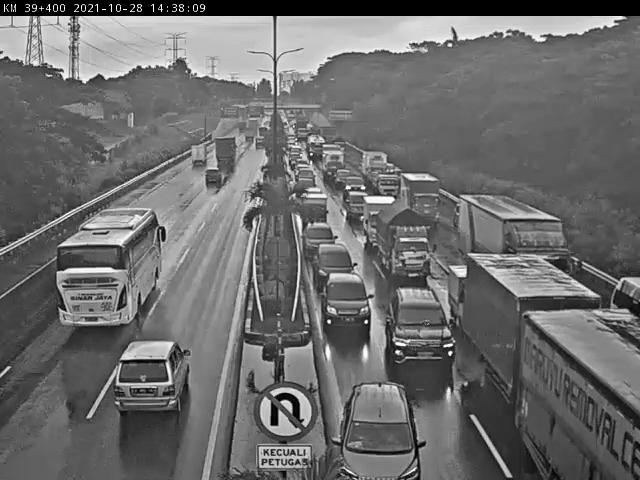big bus: (33, 206, 179, 342)
big truck: (529, 314, 640, 480), (474, 255, 593, 401), (378, 194, 436, 280), (402, 171, 445, 224), (364, 197, 402, 248), (212, 135, 247, 170), (186, 142, 211, 166)
car: (335, 378, 427, 480), (114, 336, 187, 417), (384, 285, 451, 373), (322, 271, 369, 338), (318, 236, 359, 286), (302, 218, 340, 254), (348, 193, 379, 227), (203, 164, 227, 191)
small truck: (450, 265, 477, 331)
